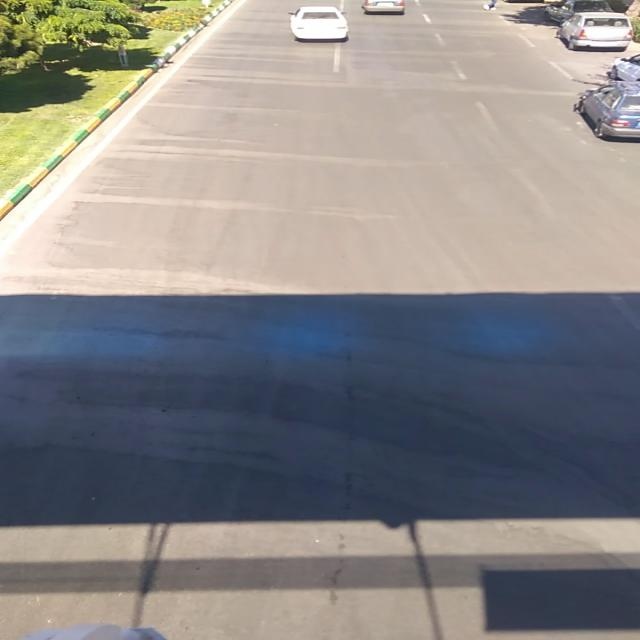car: (573, 82, 639, 139), (556, 11, 634, 48), (284, 6, 350, 40), (360, 1, 408, 14)
